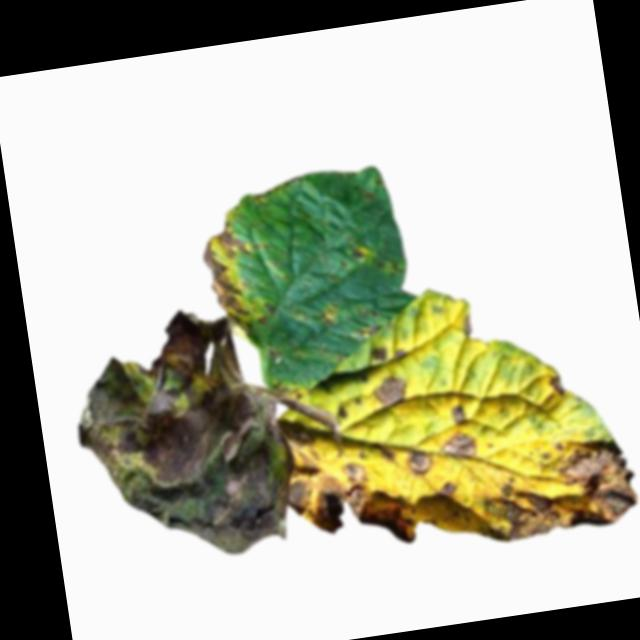Early_blight: (63, 297, 310, 575), (469, 430, 640, 546), (282, 446, 415, 561), (198, 217, 260, 337), (437, 427, 481, 462), (372, 373, 410, 411), (404, 446, 435, 475), (548, 374, 568, 399), (448, 402, 468, 426), (365, 344, 391, 362), (438, 478, 458, 498), (347, 243, 367, 259)
